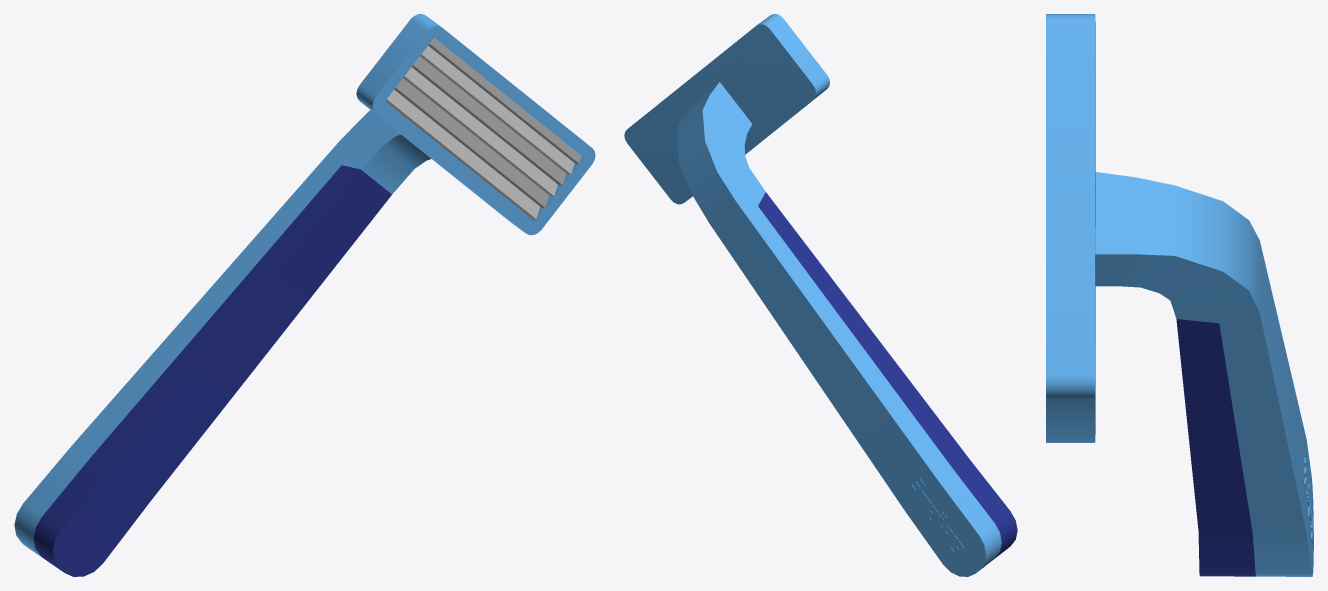
Rendered from razor.fbx.
3 renders of one model, left to right at view 1: azimuth 30°, elevation 25°; view 2: azimuth 150°, elevation 25°; view 3: azimuth 270°, elevation 25°, orthographic. The views are drawn at different scales.
Parts seen in each view (by area): view 1: Cube.1013; view 2: Cube.1013; view 3: Cube.1013.
Boxes of the visible parts, bbox=[...] form: Cube.1013: bbox=[14, 14, 595, 576]; Cube.1013: bbox=[624, 14, 1017, 576]; Cube.1013: bbox=[1046, 14, 1313, 576].
Bounding box in the file's own units: 215 × 215 × 67.15.
1 material, 1 textured.
